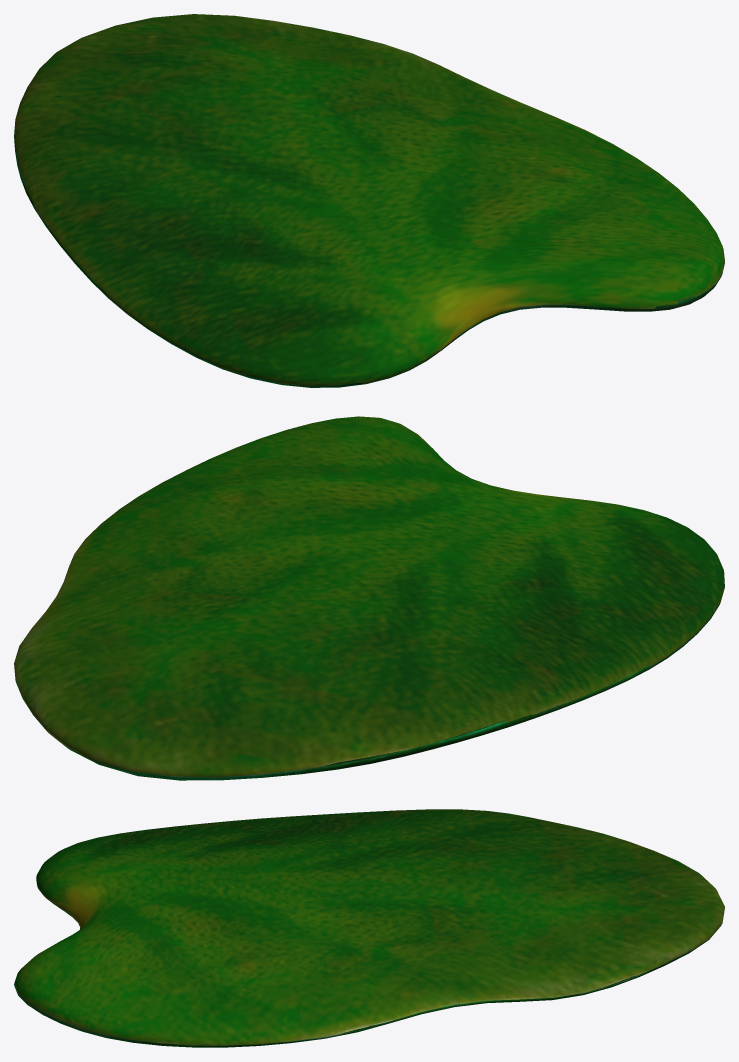
Rendered from leaf_6.fbx.
3 renders of one model, top to bottom at view 1: azimuth 30°, elevation 25°; view 2: azimuth 150°, elevation 25°; view 3: azimuth 270°, elevation 25°, orthographic. The views are drawn at different scales.
Parts seen in each view (by area): view 1: leaf_6_hr; view 2: leaf_6_hr; view 3: leaf_6_hr.
Part boxes in pixels (x1=…): leaf_6_hr: x1=14, y1=14, x2=724, y2=387; leaf_6_hr: x1=14, y1=416, x2=724, y2=780; leaf_6_hr: x1=14, y1=809, x2=724, y2=1047.
Bounding box in the file's own units: 469 × 60.76 × 622.
